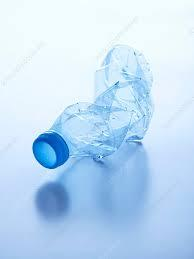plastic: (39, 45, 156, 162)
